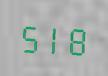eight: (65, 20, 87, 57)
five: (18, 18, 40, 55)
one: (42, 19, 64, 56)
